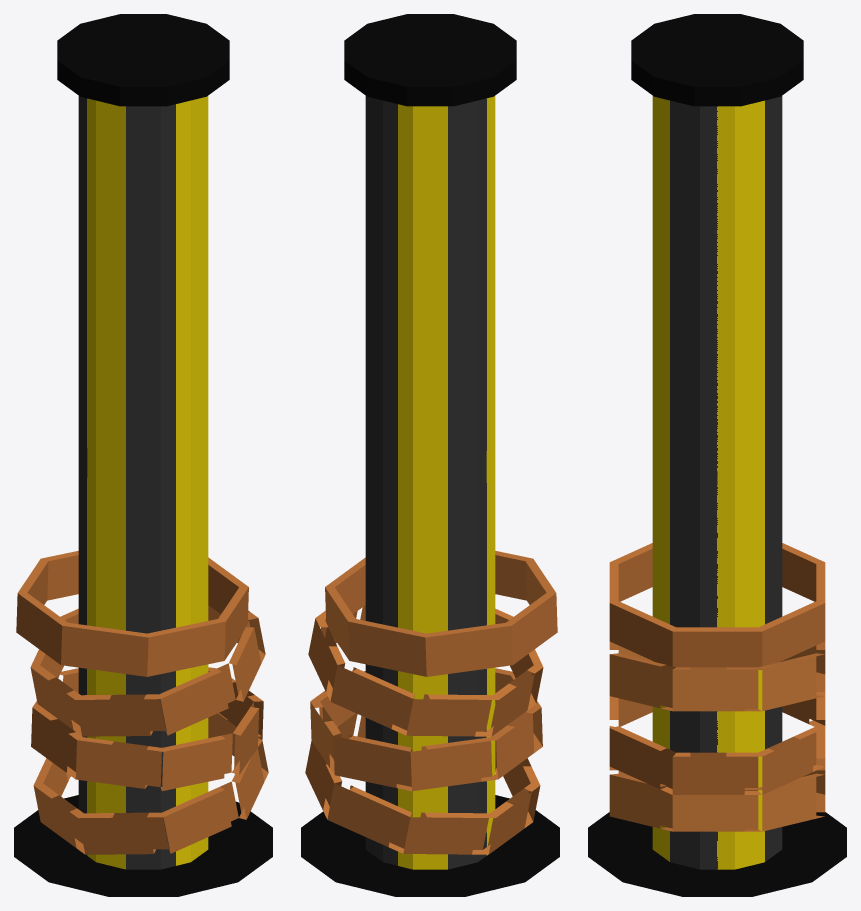
File: coil.gltf
3 views of the same model, side by side, from view 1: azimuth 30°, elevation 25°; view 2: azimuth 150°, elevation 25°; view 3: azimuth 270°, elevation 25° (orthographic).
Parts seen in each view (by area): view 1: cylinder (×2), tube (×4), circle; view 2: cylinder (×2), tube (×4), circle; view 3: cylinder (×2), tube (×4), circle.
Part boxes in pixels (<box>): cylinder (×2): <box>57,14,229,869</box>; tube (×4): <box>16,551,268,854</box>; circle: <box>14,795,272,896</box>; cylinder (×2): <box>344,14,516,869</box>; tube (×4): <box>305,551,557,854</box>; circle: <box>301,795,559,896</box>; cylinder (×2): <box>631,14,803,869</box>; tube (×4): <box>609,543,825,831</box>; circle: <box>588,812,846,896</box>.
Bounding box in the file's own units: 0.075 × 0.2531 × 0.075.
4 materials, 4 textured.
